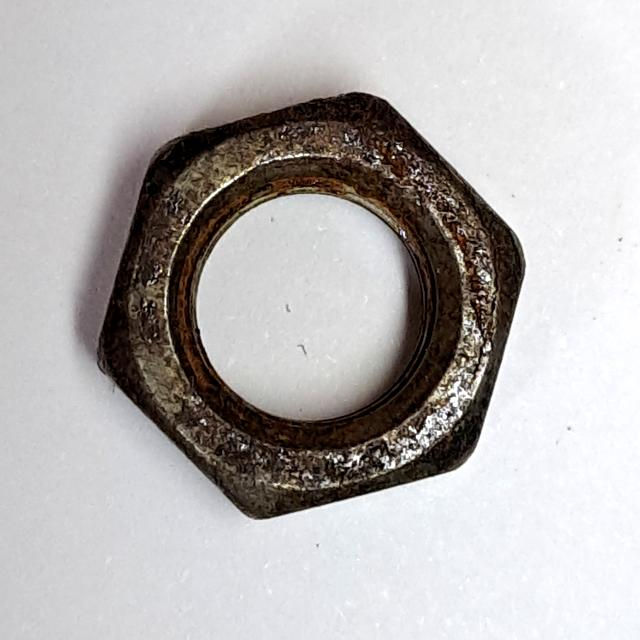Rust: (87, 81, 533, 534)
